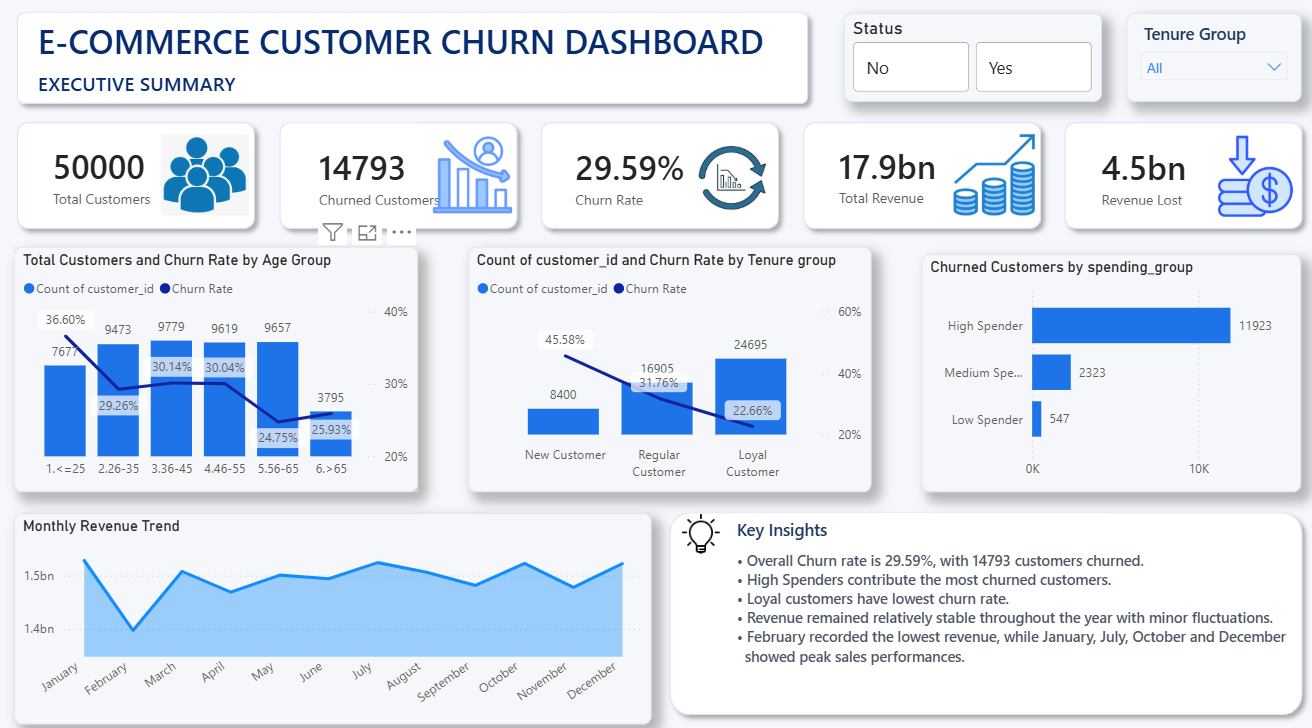

This screenshot's page, from the dashboard's own definition file:
{"tool":"powerbi","page":{"name":"Executive Summary","canvas":[1280,720],"ordinal":0},"visuals":[{"type":"shape","box":[638.2,492.2,628.6,213.5],"z":0},{"type":"shape","box":[766.7,115.8,247.3,120.6],"z":1000},{"type":"shape","box":[1019.4,115.8,247.3,120.6],"z":2000},{"type":"shape","box":[513.9,115.8,247.3,120.6],"z":3000},{"type":"shape","box":[261.2,115.8,247.3,120.6],"z":4000},{"type":"shape","box":[8.6,9.8,781.4,106.4],"z":5000},{"type":"shape","box":[8.4,115.8,247.3,120.6],"z":6000},{"type":"cardVisual","fields":{"Data":["Measure Table.Total Customers"]},"box":[22.9,131.5,220.8,89.3],"z":7000},{"type":"cardVisual","fields":{"Data":["Measure Table.Churn Rate"]},"box":[527.2,131.5,224.4,90.5],"z":8000},{"type":"cardVisual","fields":{"Data":["Measure Table.Total Revenue"]},"box":[781.8,130.3,217.2,90.5],"z":9000},{"type":"cardVisual","fields":{"Data":["Measure Table.Revenue Lost"]},"box":[1035.1,131.5,212.3,90.5],"z":10000},{"type":"stackedAreaChart","title":"Monthly Revenue Trend","fields":{"Category":["public transactions.order_date.Variation.Date Hierarchy.Month"],"Y":["Sum(public transactions.amount)"]},"box":[14.5,501.9,615.3,203.9],"z":11000},{"type":"cardVisual","fields":{"Data":["Measure Table.Churned Customers"]},"box":[279.9,131.5,211,90.5],"z":12000},{"type":"lineClusteredColumnComboChart","title":"Total Customers and Churn Rate by Age Group","fields":{"Category":["public customers.Age Group"],"Y":["CountNonNull(public customers.customer_id)"],"Y2":["Measure Table.Churn Rate"]},"box":[14.5,244.9,389.7,236.5],"z":13000},{"type":"lineClusteredColumnComboChart","fields":{"Y":["CountNonNull(public customers.customer_id)"],"Y2":["Measure Table.Churn Rate"],"Category":["public customers.Tenure group"]},"box":[452.4,244.9,389.7,236.5],"z":14000},{"type":"clusteredBarChart","fields":{"Category":["public vw_customer_spending.spending_group"],"Y":["Measure Table.Churned Customers"]},"box":[890.4,252.1,366.8,229.2],"z":15000},{"type":"textbox","box":[33,19.6,734.9,69.7],"z":16000},{"type":"textbox","box":[33,69.7,734.9,35.5],"z":17000},{"type":"advancedSlicerVisual","fields":{"Values":["public churn_status.status"]},"box":[815.6,19.3,248.5,85.7],"z":18000},{"type":"slicer","fields":{"Values":["public customers.Tenure group"]},"box":[1088.2,19.3,168.9,85.7],"z":19000},{"type":"image","box":[1167.8,137.5,89.3,78.4],"z":20000},{"type":"image","box":[915.7,136.3,89.3,78.4],"z":21000},{"type":"image","box":[413.8,136.3,86.9,78.4],"z":22000},{"type":"image","box":[154.4,136.3,89.3,78.4],"z":23000},{"type":"image","box":[662.3,137.5,89.3,78.4],"z":24000},{"type":"image","box":[647.9,501.9,59.1,41],"z":25000},{"type":"textbox","box":[707,501.9,364.3,39.8],"z":26000},{"type":"textbox","box":[707,533.2,540.5,161.7],"z":27000}]}

Visuals, with their boxes in screenshot pixels (x1, y1, x2, y2), scaled from the page's 1280x720 canvas onto the 1312x728 screenshot:
shape: [654,498,1298,714]
shape: [786,117,1039,239]
shape: [1045,117,1298,239]
shape: [527,117,780,239]
shape: [268,117,521,239]
shape: [9,10,810,117]
shape: [9,117,262,239]
cardVisual - Measure Table.Total Customers: [23,133,250,223]
cardVisual - Measure Table.Churn Rate: [540,133,770,224]
cardVisual - Measure Table.Total Revenue: [801,132,1024,223]
cardVisual - Measure Table.Revenue Lost: [1061,133,1279,224]
"Monthly Revenue Trend" stackedAreaChart: [15,507,646,714]
cardVisual - Measure Table.Churned Customers: [287,133,503,224]
"Total Customers and Churn Rate by Age Group" lineClusteredColumnComboChart: [15,248,414,487]
lineClusteredColumnComboChart - CountNonNull(public customers.customer_id) x Measure Table.Churn Rate: [464,248,863,487]
clusteredBarChart - public vw_customer_spending.spending_group x Measure Table.Churned Customers: [913,255,1289,487]
textbox: [34,20,787,90]
textbox: [34,70,787,106]
advancedSlicerVisual - public churn_status.status: [836,20,1091,106]
slicer - public customers.Tenure group: [1115,20,1289,106]
image: [1197,139,1289,218]
image: [939,138,1030,217]
image: [424,138,513,217]
image: [158,138,250,217]
image: [679,139,770,218]
image: [664,507,725,549]
textbox: [725,507,1098,548]
textbox: [725,539,1279,703]
